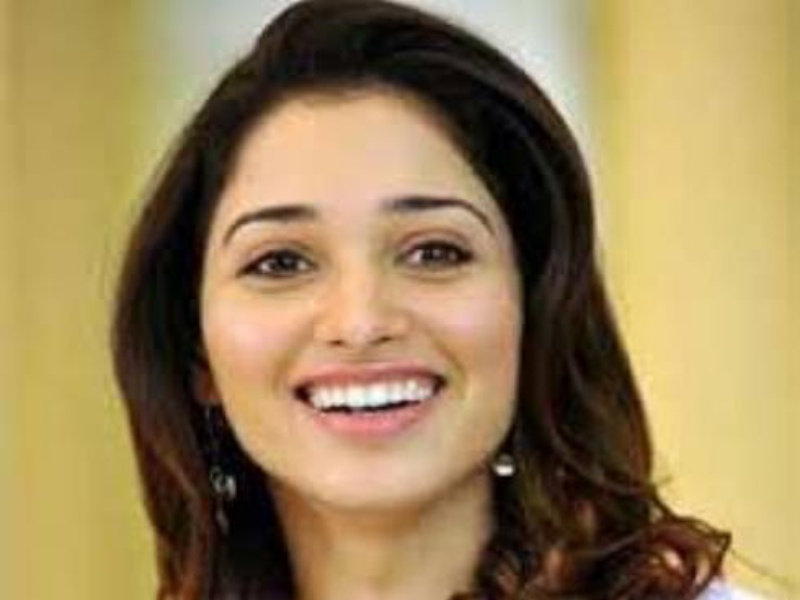TsisyArotava: (161, 69, 531, 518)
